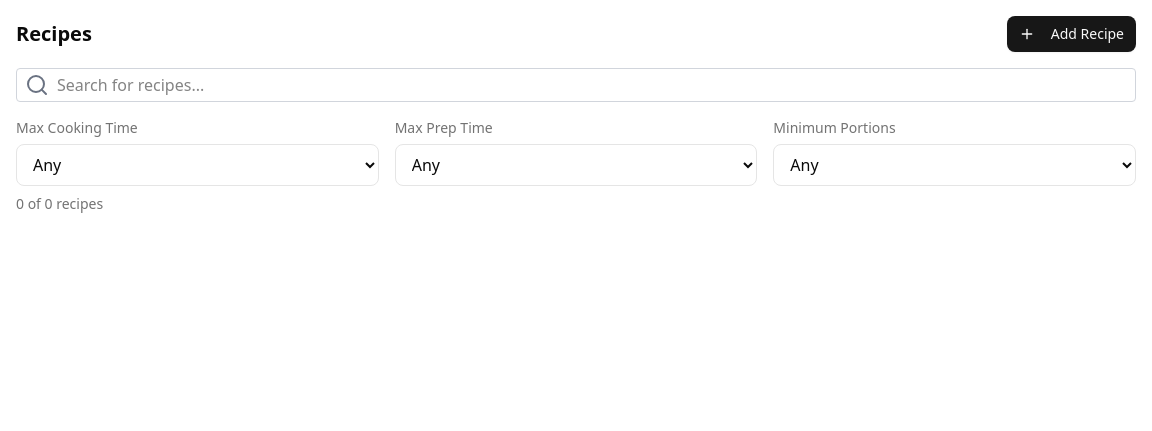
it: RecipeList Filters › filters recipes by portions
The width and height of the screenshot is (1152, 431).
Select "4+" in the dropdown labelled "Minimum Portions" at (955, 165), box [773, 144, 1136, 186]
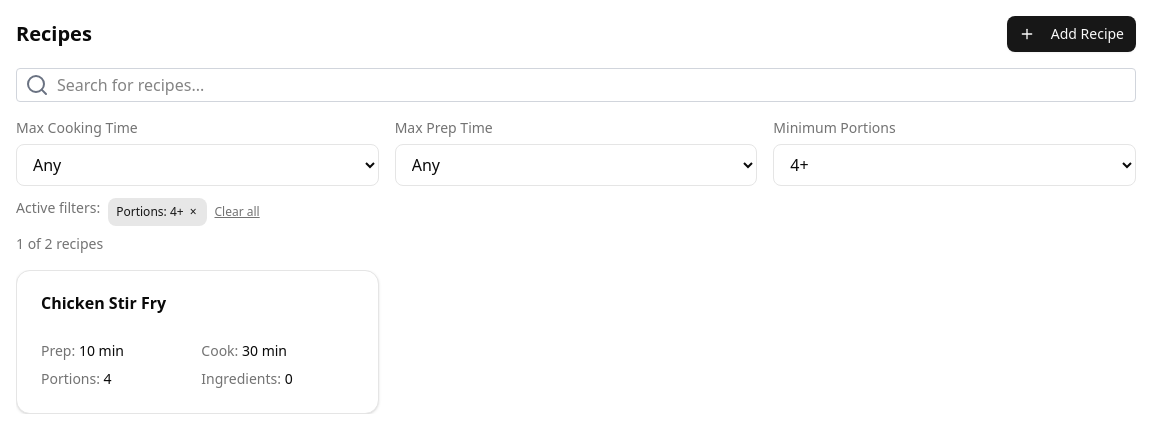
expect the text "Chicken Stir Fry" is shown: met, box [41, 292, 166, 314]
